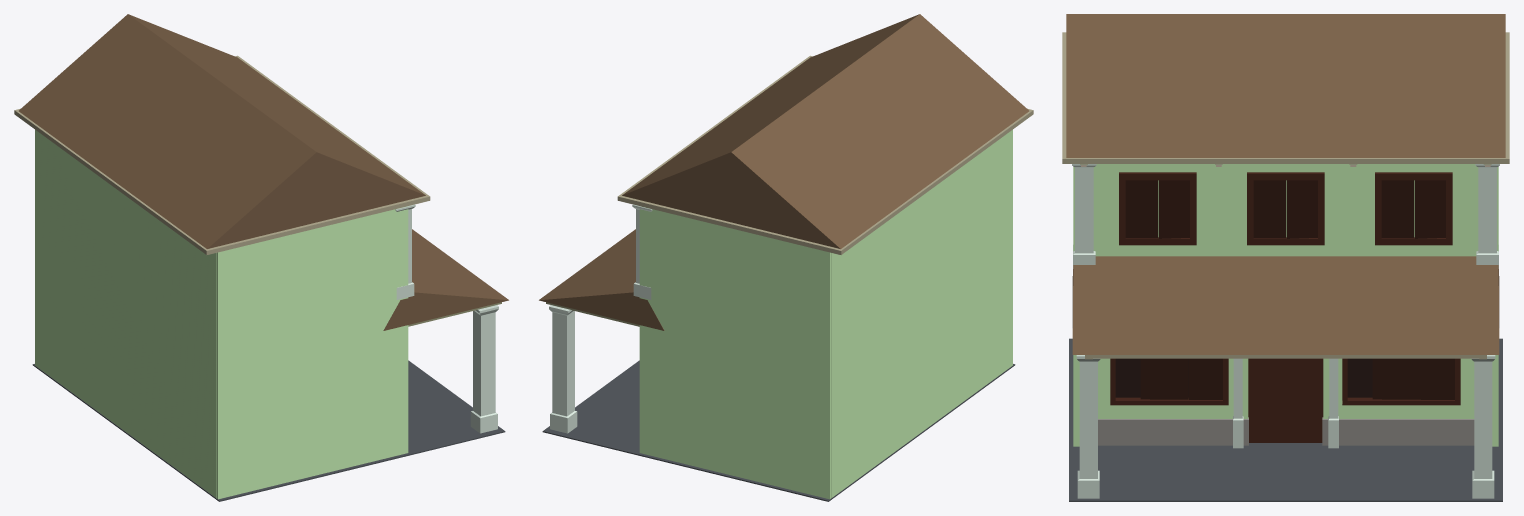
File: 1800 Shophouse.fbx
The picture shows the model from 3 angles, left to right: view 1: azimuth 30°, elevation 25°; view 2: azimuth 150°, elevation 25°; view 3: azimuth 270°, elevation 25°; orthographic projection. The views are drawn at different scales.
Visible parts, largest first — view 1: Cube, Cylinder, Plane, Cylinder.001, Cube.010, Cube.016, Cube.012; view 2: Cube, Cylinder, Plane, Cylinder.001, Cube.010, Cube.017, Cube.018; view 3: Cylinder, Cylinder.001, Cube, Plane, Cube.026, Cube.019, Cube.024, Cube.010, Cube.016, Cube.017, Cube.011, Cube.020 (+13 smaller).
Part boxes in pixels (x1,y1,x2,y2): Cube: [35, 129, 408, 499]; Cylinder: [19, 14, 425, 248]; Plane: [32, 360, 505, 501]; Cylinder.001: [383, 229, 508, 330]; Cube.010: [14, 55, 430, 254]; Cube.016: [470, 305, 498, 433]; Cube.012: [395, 204, 415, 299]; Cube: [639, 129, 1012, 499]; Cylinder: [622, 14, 1028, 248]; Plane: [542, 360, 1015, 501]; Cylinder.001: [539, 229, 664, 330]; Cube.010: [617, 55, 1033, 254]; Cube.017: [549, 305, 577, 433]; Cube.018: [632, 204, 652, 299]; Cylinder: [1066, 14, 1505, 157]; Cylinder.001: [1072, 256, 1499, 354]; Cube: [1073, 164, 1498, 446]; Plane: [1069, 338, 1502, 501]; Cube.026: [1110, 358, 1460, 442]; Cube.019: [1098, 417, 1474, 445]; Cube.024: [1140, 358, 1454, 399]; Cube.010: [1062, 32, 1509, 163]; Cube.016: [1076, 355, 1100, 498]; Cube.017: [1471, 355, 1495, 498]; Cube.011: [1247, 172, 1324, 245]; Cube.020: [1375, 172, 1452, 245].
Size of the model in its own units: 1964 by 1999 by 2131.
